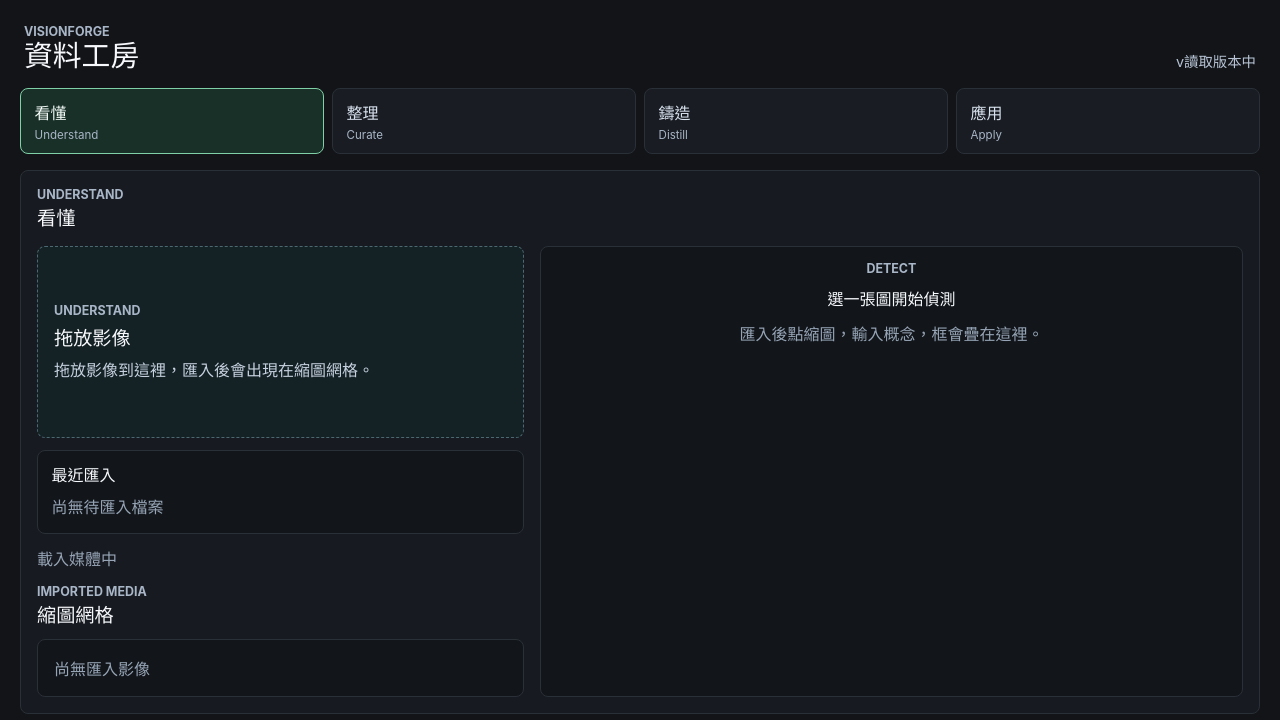
Test case: App › shows a curate error state when the API base URL is not ready
Click the button "整理 Curate". click: coordinates (363, 113)
box: [332,88,636,154]
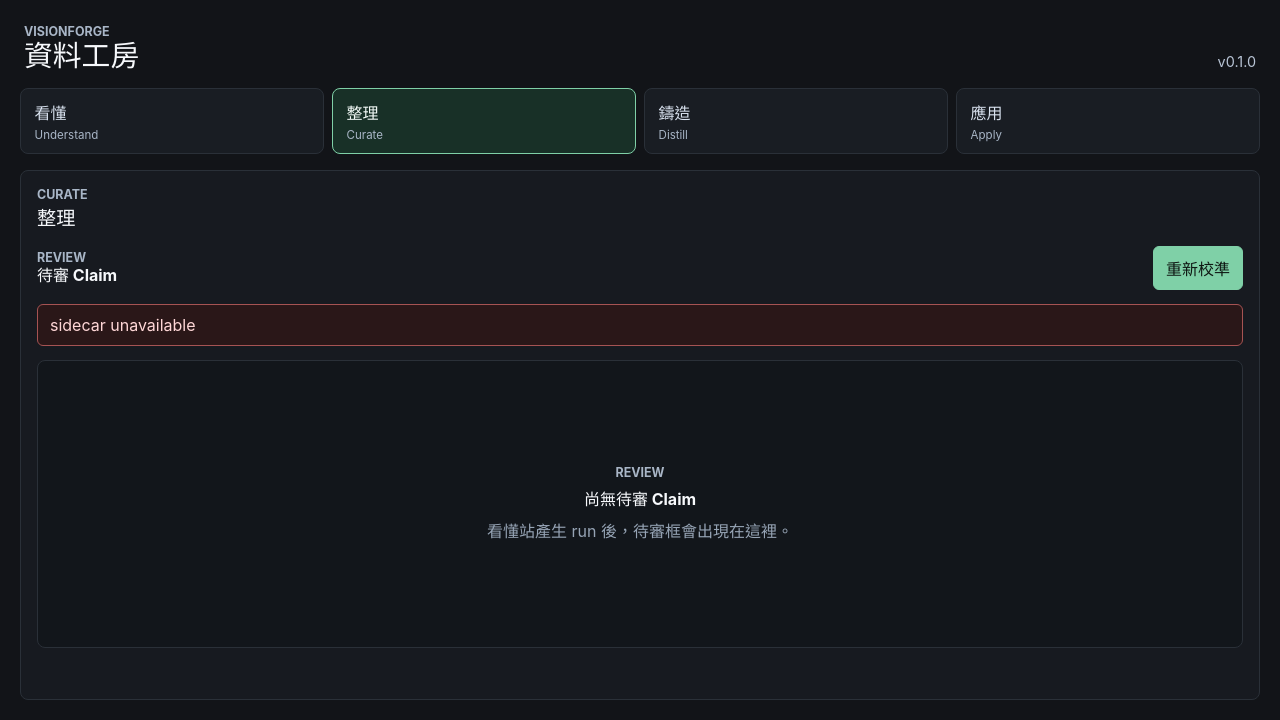
Check: the message reads "sidecar unavailable", box [50,315,196,335]
